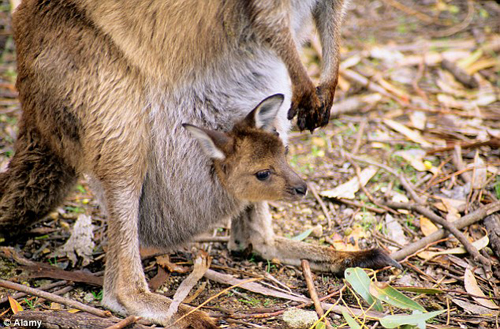kangaroo: (8, 1, 361, 328), (178, 93, 310, 205)
